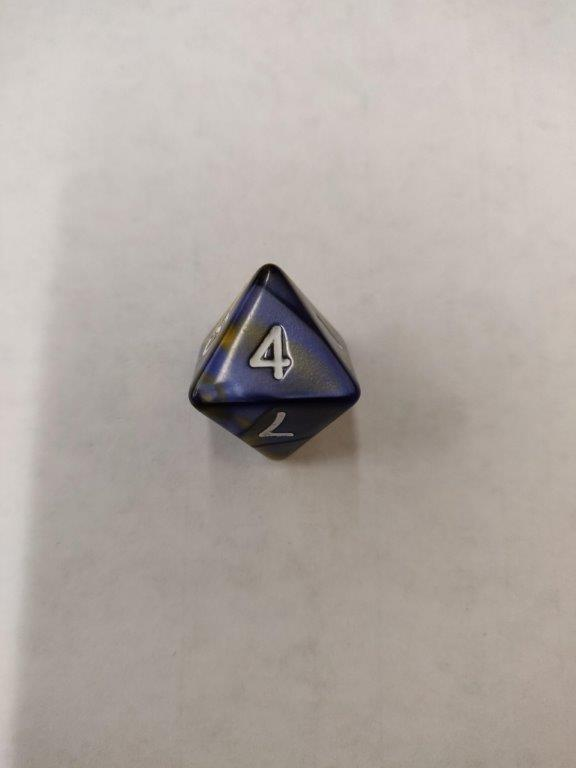d8-4: (188, 263, 363, 466)
